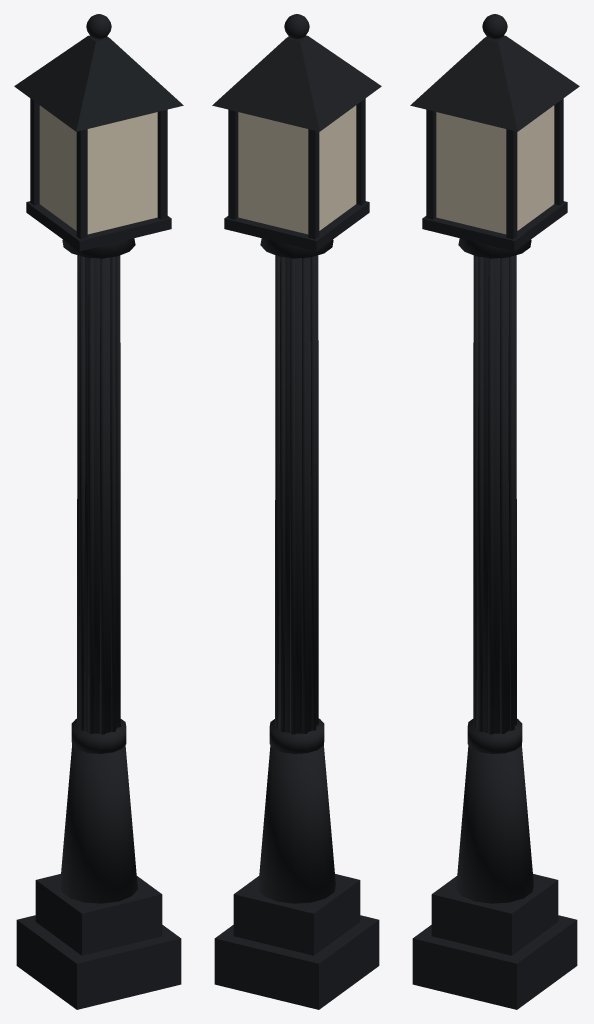
The model's file is lamp_lantern.glb.
The picture shows the model from 3 angles, left to right: view 1: azimuth 30°, elevation 25°; view 2: azimuth 150°, elevation 25°; view 3: azimuth 330°, elevation 25°; orthographic projection.
Parts seen in each view (by area): view 1: body, glow; view 2: body, glow; view 3: body, glow.
Part boxes in pixels (left/top/right/bottom): body: left=14, top=14, right=183, bottom=1009; glow: left=39, top=105, right=157, bottom=234; body: left=212, top=14, right=381, bottom=1009; glow: left=238, top=105, right=356, bottom=234; body: left=410, top=14, right=579, bottom=1009; glow: left=436, top=105, right=554, bottom=234.
Size of the model in its own units: 0.5374 by 4.57 by 0.5374.
